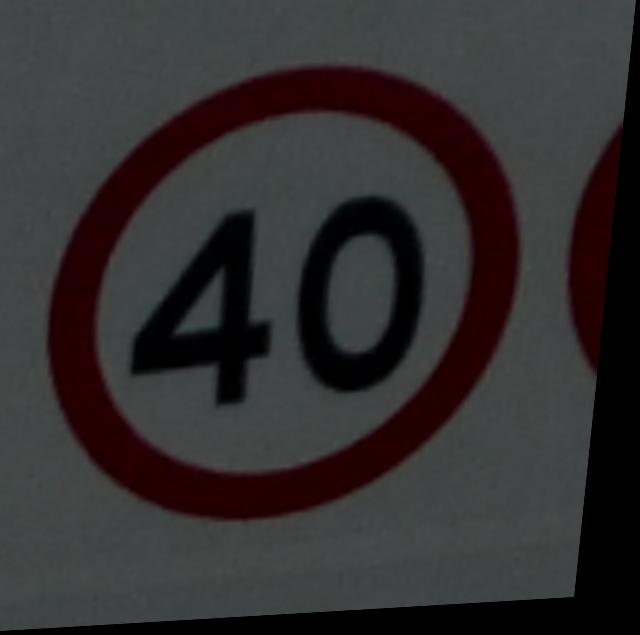limit40: (26, 49, 557, 544)
